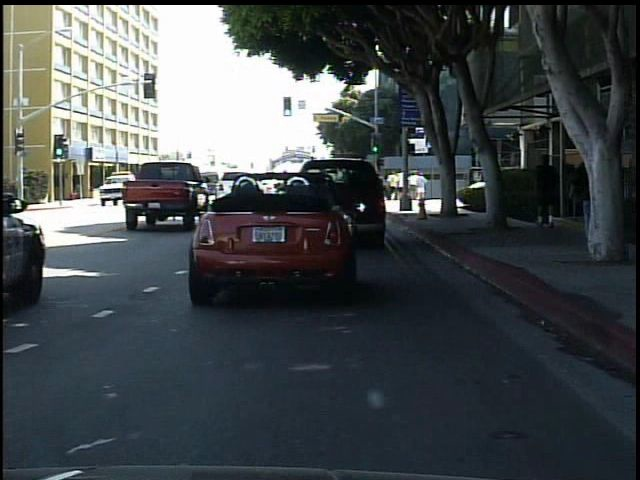person: (573, 138, 615, 257), (528, 149, 564, 230), (144, 173, 163, 201)
